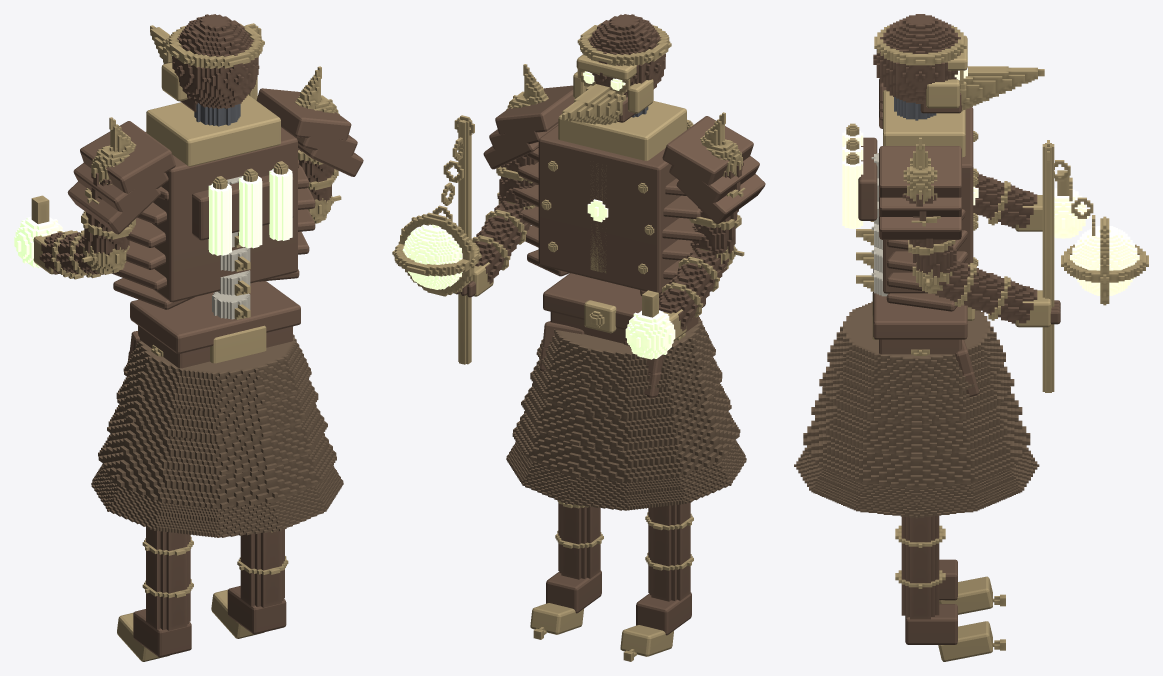
Rendered from enemy_plague_acolyte.glb.
3 views of the same model, side by side, from view 1: azimuth 30°, elevation 25°; view 2: azimuth 150°, elevation 25°; view 3: azimuth 270°, elevation 25° (orthographic). The views are drawn at different scales.
Parts seen in each view (by area): view 1: Pelvis, Torso, Head, ShinL, SecondaryProp, ShinR, ForearmL, UpperArmL, UpperArmR, ForearmR; view 2: Pelvis, Torso, ForearmR, Head, ShinL, ShinR, ForearmL, UpperArmL, UpperArmR; view 3: Pelvis, Torso, ForearmR, Head, ShinR, ForearmL, SecondaryProp, UpperArmR, ShinL.
Part boxes in pixels (left/top/right/bottom): Pelvis: left=91, top=281, right=343, bottom=537; Torso: left=67, top=66, right=363, bottom=319; Head: left=150, top=14, right=264, bottom=126; ShinL: left=117, top=527, right=193, bottom=661; SecondaryProp: left=192, top=161, right=293, bottom=255; ShinR: left=211, top=529, right=288, bottom=638; ForearmL: left=14, top=195, right=129, bottom=279; UpperArmL: left=81, top=145, right=135, bottom=255; UpperArmR: left=298, top=95, right=339, bottom=202; ForearmR: left=246, top=23, right=341, bottom=223; Pelvis: left=506, top=273, right=746, bottom=510; Torso: left=483, top=64, right=765, bottom=297; ForearmR: left=392, top=115, right=535, bottom=364; Head: left=562, top=14, right=671, bottom=124; ShinL: left=620, top=502, right=693, bottom=661; ShinR: left=530, top=500, right=603, bottom=639; ForearmL: left=625, top=245, right=744, bottom=359; UpperArmL: left=689, top=139, right=745, bottom=253; UpperArmR: left=496, top=91, right=537, bottom=206; Pelvis: left=794, top=268, right=1039, bottom=518; Torso: left=856, top=78, right=978, bottom=311; ForearmR: left=912, top=140, right=1148, bottom=392; Head: left=873, top=14, right=1044, bottom=120; ShinR: left=895, top=515, right=1005, bottom=661; ForearmL: left=973, top=167, right=1088, bottom=238; SecondaryProp: left=842, top=123, right=877, bottom=228; UpperArmR: left=902, top=166, right=956, bottom=277; ShinL: left=895, top=525, right=1005, bottom=614.
Size of the model in its own units: 0.7984 by 1.8 by 0.9426.
